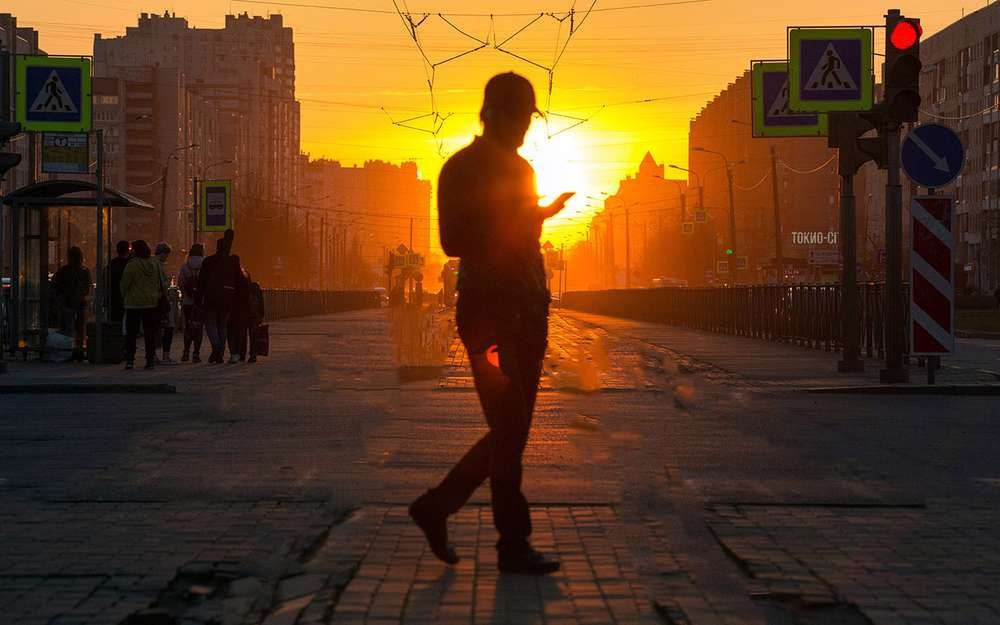sombie: (390, 60, 600, 580)
